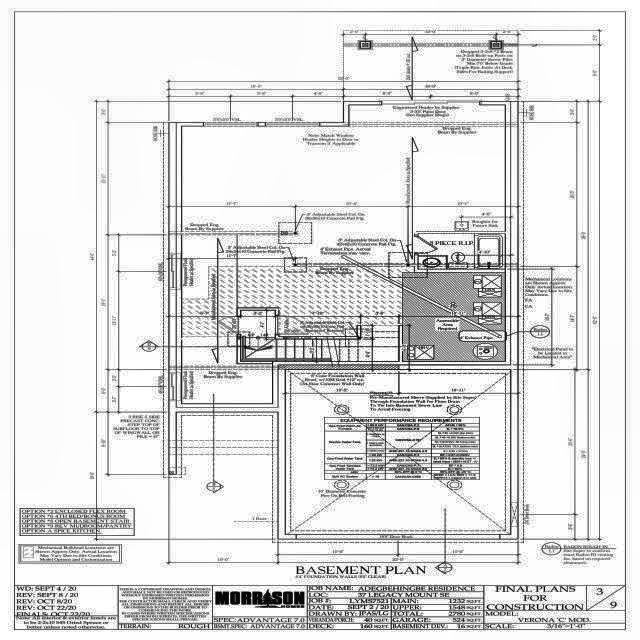room: (418, 234, 505, 269)
